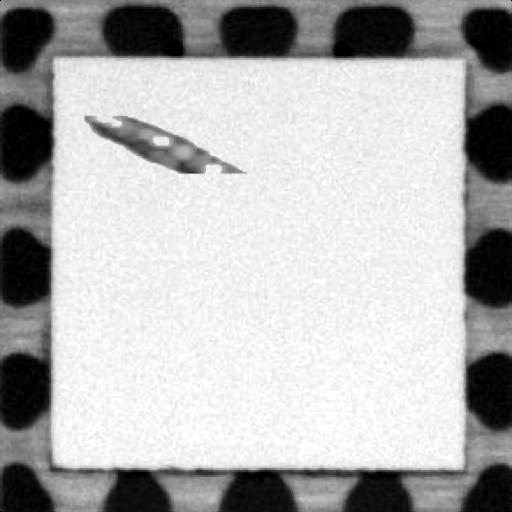DIE_INK: (83, 114, 241, 172)
